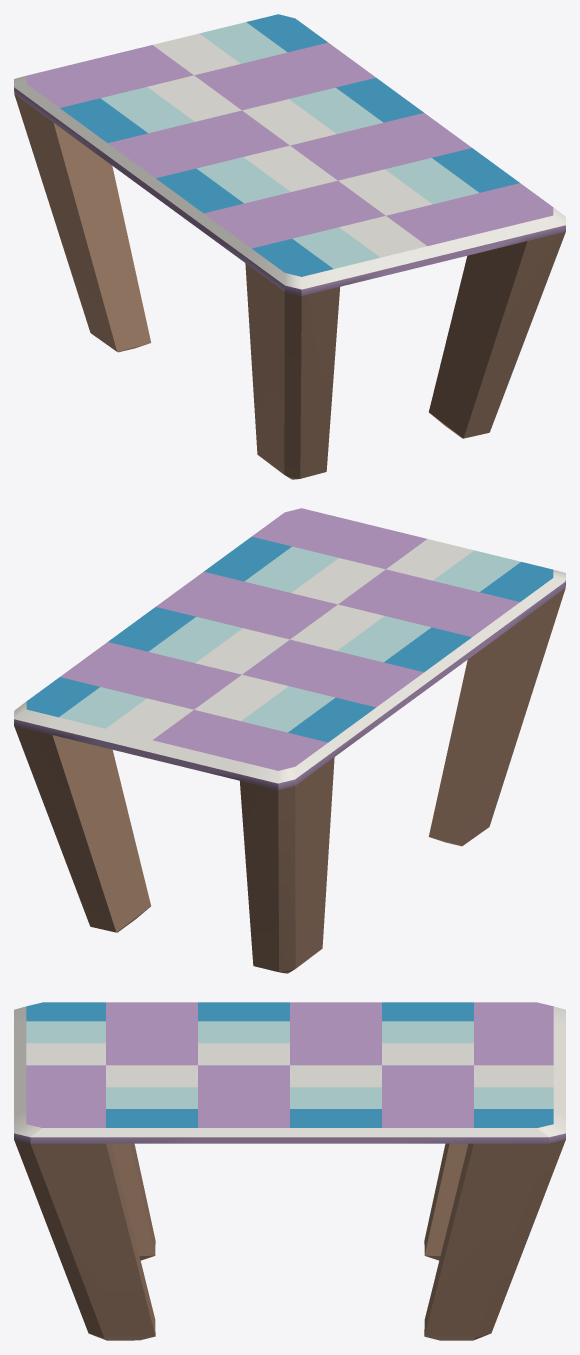
File: TABLE2.fbx
The picture shows the model from 3 angles, top to bottom: view 1: azimuth 30°, elevation 25°; view 2: azimuth 150°, elevation 25°; view 3: azimuth 270°, elevation 25°; orthographic projection. The views are drawn at different scales.
Parts seen in each view (by area): view 1: TABLE2; view 2: TABLE2; view 3: TABLE2.
Part boxes in pixels (x1=…): TABLE2: x1=14, y1=14, x2=565, y2=479; TABLE2: x1=14, y1=508, x2=565, y2=973; TABLE2: x1=14, y1=1002, x2=565, y2=1340.
Bounding box in the file's own units: 9.81 × 8.05 × 17.39.
